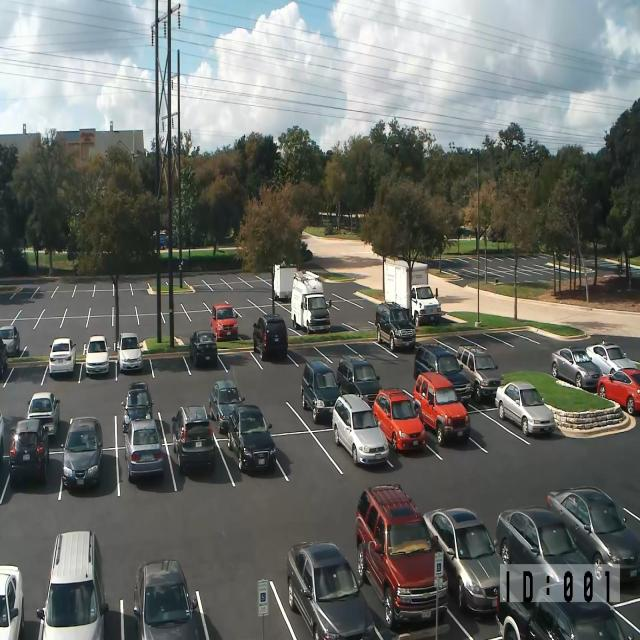car: (356, 483, 448, 630), (494, 507, 606, 605), (546, 485, 640, 583), (422, 506, 503, 616), (286, 540, 375, 640), (496, 580, 637, 640), (36, 530, 109, 639), (133, 558, 209, 640), (413, 372, 470, 446), (332, 393, 389, 466), (528, 600, 626, 639), (413, 342, 472, 403), (226, 403, 276, 473), (494, 381, 556, 436), (373, 388, 426, 452), (60, 416, 103, 489), (170, 405, 216, 473), (456, 344, 503, 402), (123, 416, 164, 482), (300, 360, 342, 424), (9, 418, 49, 484), (336, 355, 383, 408), (551, 346, 603, 391), (596, 368, 640, 416), (374, 301, 416, 351), (208, 380, 245, 431), (586, 340, 637, 376), (0, 564, 24, 639), (121, 381, 154, 434), (252, 313, 288, 361), (26, 391, 60, 439), (410, 283, 441, 327), (610, 596, 640, 640), (83, 335, 110, 376), (210, 303, 238, 342), (189, 330, 217, 368), (116, 333, 143, 372), (49, 337, 76, 375), (0, 324, 20, 356), (151, 230, 168, 249), (0, 337, 7, 378), (0, 409, 4, 466), (299, 239, 308, 252)
